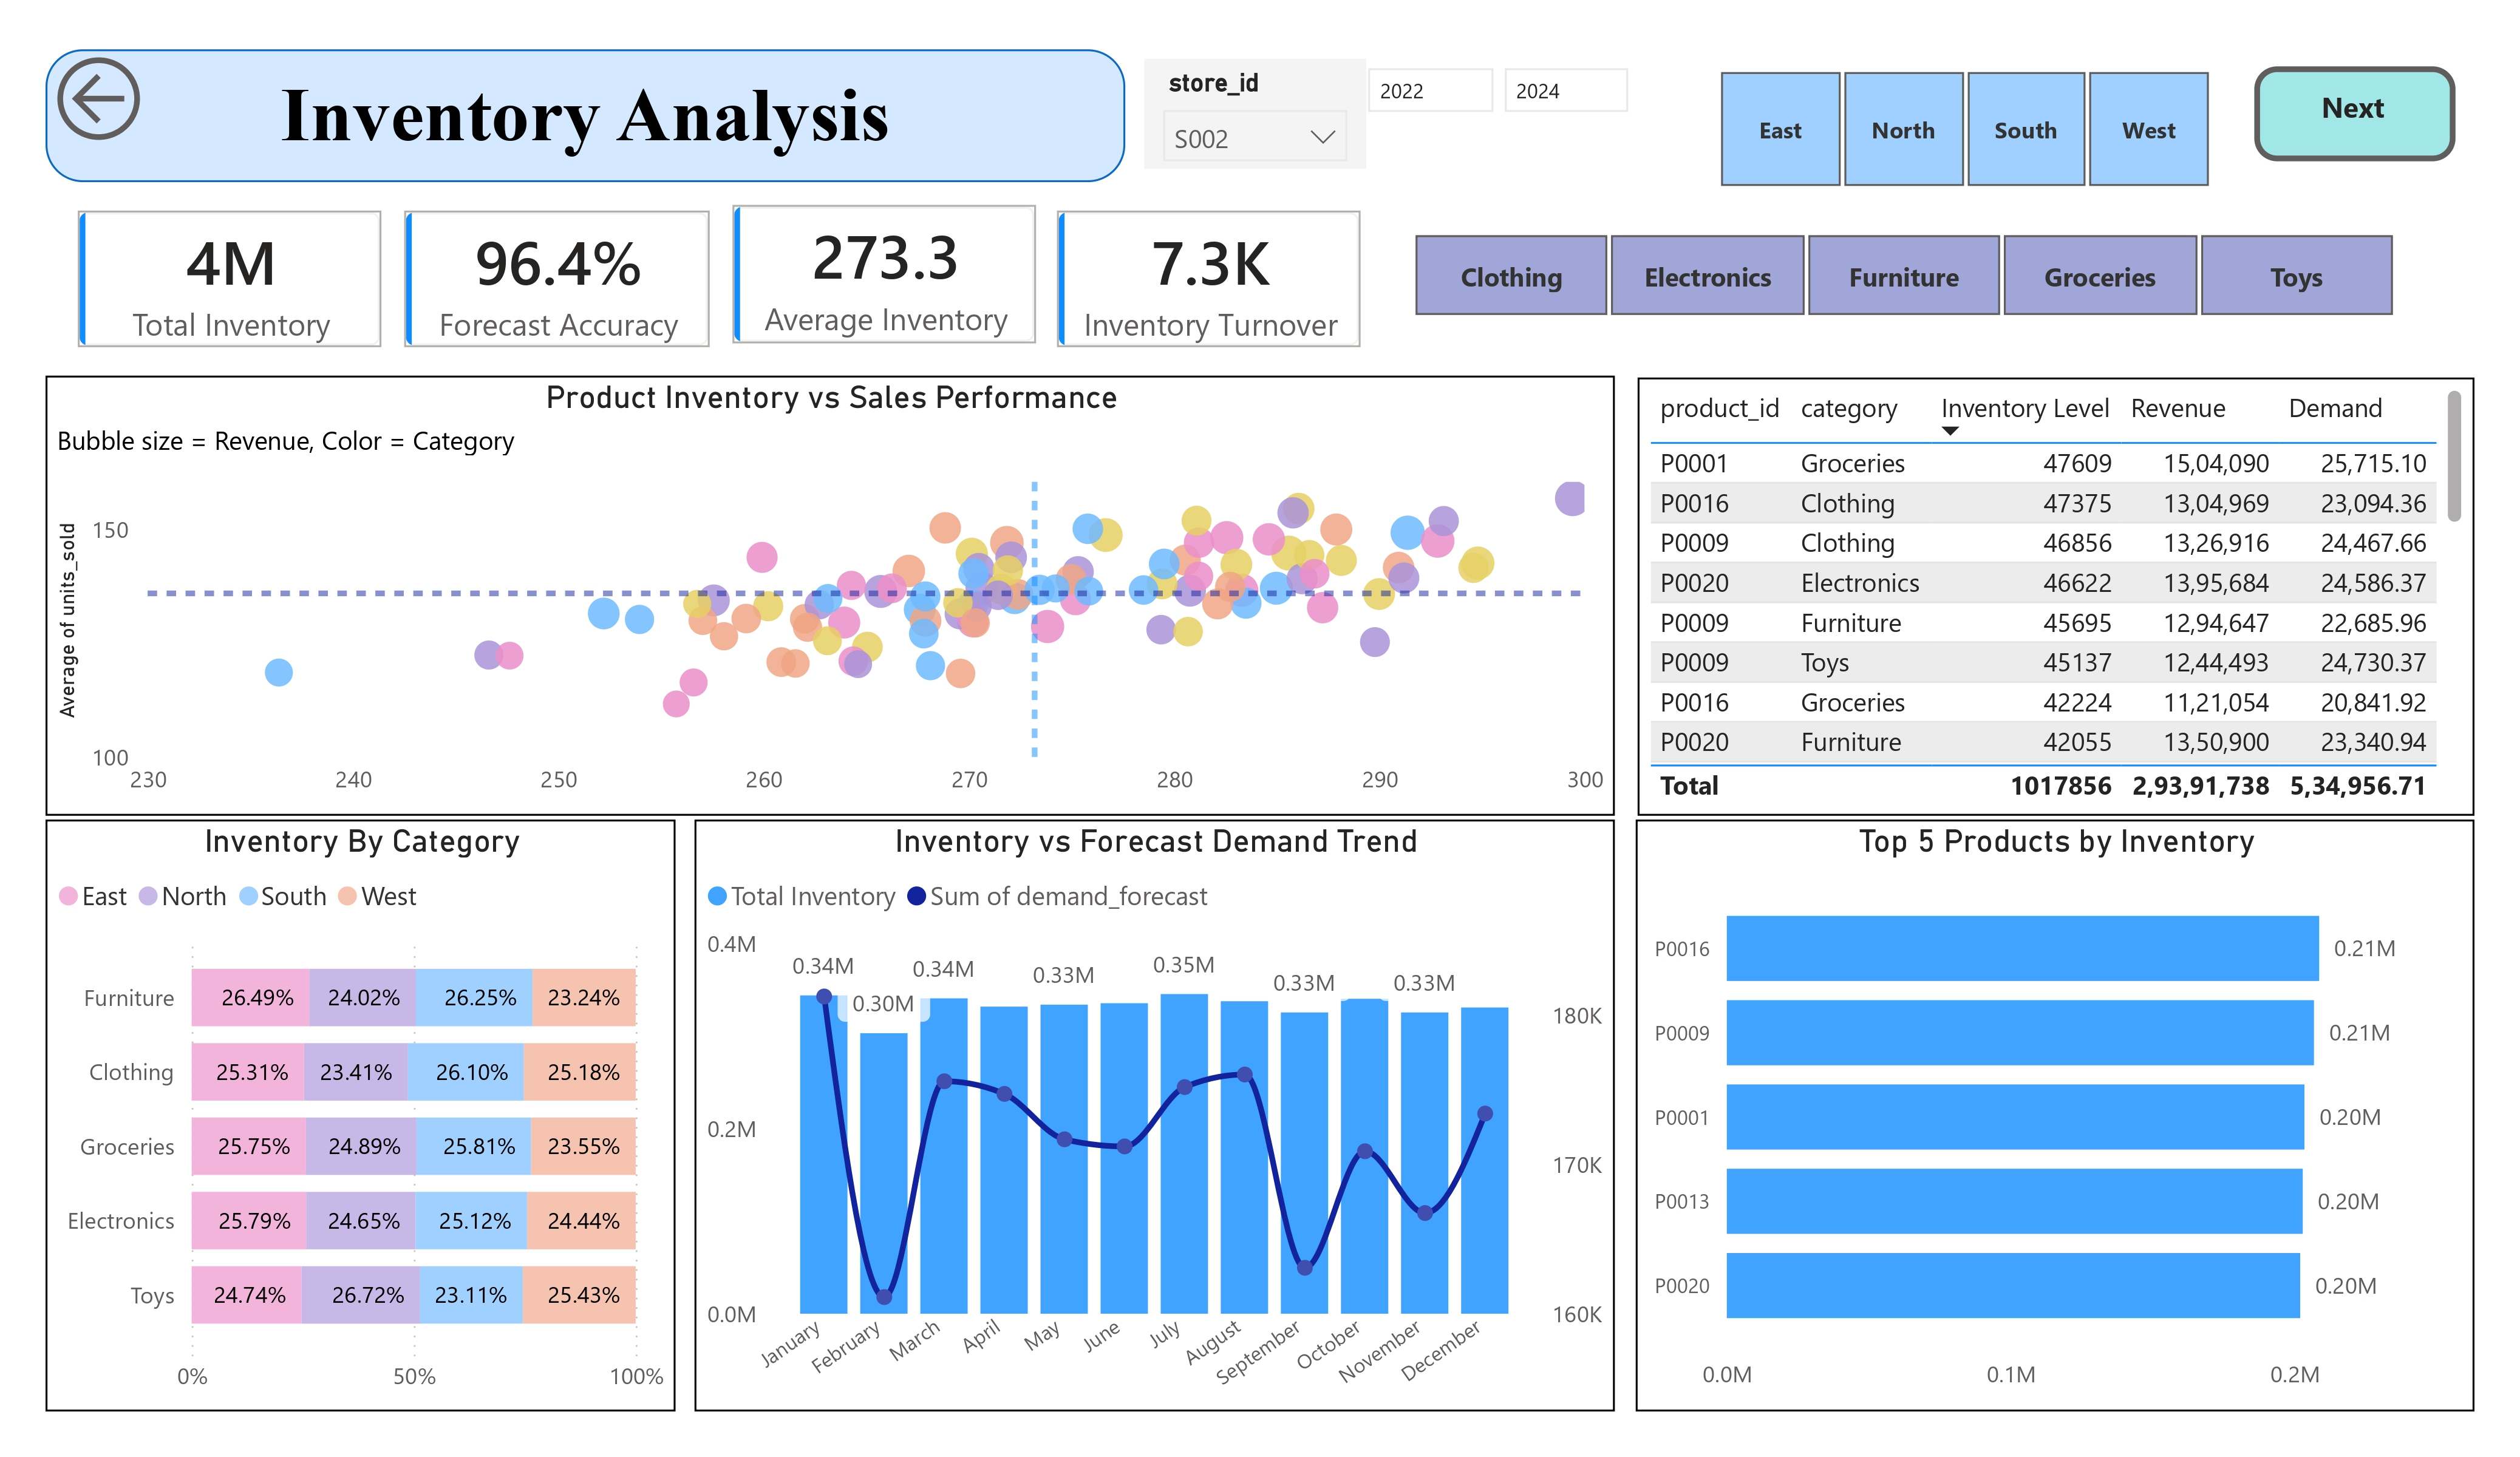

What the dashboard file says about the page in this screenshot:
{"tool":"powerbi","page":{"name":"Inventory Analysis","canvas":[1280,720],"ordinal":1},"visuals":[{"type":"cardVisual","fields":{"Data":["Measures (2).Total Inventory"]},"box":[0,69.7,194.4,106.4],"z":0},{"type":"cardVisual","fields":{"Data":["Measures (2).Inventory turnover"]},"box":[516,69.7,194.4,106.4],"z":1000},{"type":"cardVisual","fields":{"Data":["Measures (2).Average Inventory"]},"box":[344.8,67.3,194.4,106.4],"z":2000},{"type":"cardVisual","fields":{"Data":["Measures (2).Forecast Accuracy %"]},"box":[172.4,69.7,194.4,106.4],"z":3000},{"type":"scatterChart","title":"Product Inventory vs Sales Performance","fields":{"X":["Avg(public fact_retail_inventory.inventory_level)"],"Y":["Avg(public fact_retail_inventory.units_sold)"],"Series":["public fact_retail_inventory.category"],"Size":["Sum(public fact_retail_inventory.revenue)"],"Category":["public fact_retail_inventory.product_id"]},"box":[0,173.6,826.6,232.3],"z":4000},{"type":"lineStackedColumnComboChart","title":"Inventory vs Forecast Demand Trend","fields":{"Category":["Date.Month Name"],"Y":["Measures (2).Total Inventory"],"Y2":["Sum(public fact_retail_inventory.demand_forecast)"]},"box":[341.7,407.5,485.8,312.9],"z":5000},{"type":"barChart","title":"Top 5 Products by Inventory","fields":{"Category":["public fact_retail_inventory.product_id"],"Y":["Sum(public fact_retail_inventory.inventory_level)"]},"box":[838.4,407.5,441.9,312.9],"z":6000},{"type":"tableEx","fields":{"Values":["public fact_retail_inventory.product_id","public fact_retail_inventory.category","Sum(public fact_retail_inventory.inventory_level)","Sum(public fact_retail_inventory.revenue)","Sum(public fact_retail_inventory.demand_forecast)"]},"box":[838.9,174.9,441.4,231.1],"z":7000},{"type":"slicer","fields":{"Values":["public fact_retail_inventory.store_id"]},"box":[579.3,7.4,116.6,57.1],"z":8000},{"type":"shape","box":[0,2.5,569.4,69.5],"z":9000},{"type":"slicer","fields":{"Values":["public fact_retail_inventory.category"]},"box":[695.8,92.9,564.9,56.3],"z":10000},{"type":"slicer","fields":{"Values":["public fact_retail_inventory.region"]},"box":[857.2,7.3,306.9,73.4],"z":11000},{"type":"slicer","fields":{"Values":["Date.Year"]},"box":[683.6,2.4,193.2,67.3],"z":12000},{"type":"hundredPercentStackedBarChart","title":"Inventory By Category","fields":{"Category":["public fact_retail_inventory.category"],"Y":["Sum(public fact_retail_inventory.inventory_level)"],"Series":["public fact_retail_inventory.region"]},"box":[0,408,332,312],"z":13000},{"type":"actionButton","box":[0,0,58.3,55.8],"z":14000},{"type":"actionButton","box":[1163.6,11.2,106.7,49.6],"z":15000},{"type":"textbox","box":[1183.5,17.4,65.7,38.5],"z":16000}]}

Visuals, with their boxes in screenshot pixels (x1, y1, x2, y2):
cardVisual - Measures (2).Total Inventory: l=66, t=177, r=430, b=376
cardVisual - Measures (2).Inventory turnover: l=1032, t=177, r=1396, b=376
cardVisual - Measures (2).Average Inventory: l=711, t=172, r=1075, b=371
cardVisual - Measures (2).Forecast Accuracy %: l=389, t=177, r=752, b=376
"Product Inventory vs Sales Performance" scatterChart: l=66, t=371, r=1613, b=806
"Inventory vs Forecast Demand Trend" lineStackedColumnComboChart: l=706, t=809, r=1615, b=1394
"Top 5 Products by Inventory" barChart: l=1636, t=809, r=2464, b=1394
tableEx - public fact_retail_inventory.product_id x public fact_retail_inventory.category: l=1636, t=373, r=2464, b=806
slicer - public fact_retail_inventory.store_id: l=1151, t=59, r=1369, b=167
shape: l=66, t=50, r=1132, b=181
slicer - public fact_retail_inventory.category: l=1369, t=220, r=2426, b=325
slicer - public fact_retail_inventory.region: l=1671, t=59, r=2246, b=197
slicer - Date.Year: l=1346, t=50, r=1708, b=177
"Inventory By Category" hundredPercentStackedBarChart: l=66, t=810, r=687, b=1394
actionButton: l=66, t=46, r=175, b=151
actionButton: l=2245, t=67, r=2445, b=160
textbox: l=2282, t=78, r=2405, b=151
